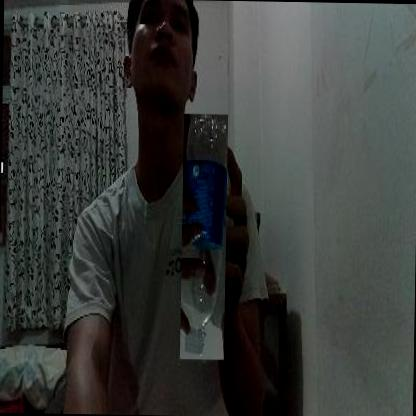plastic_bottles: (180, 114, 228, 360)
